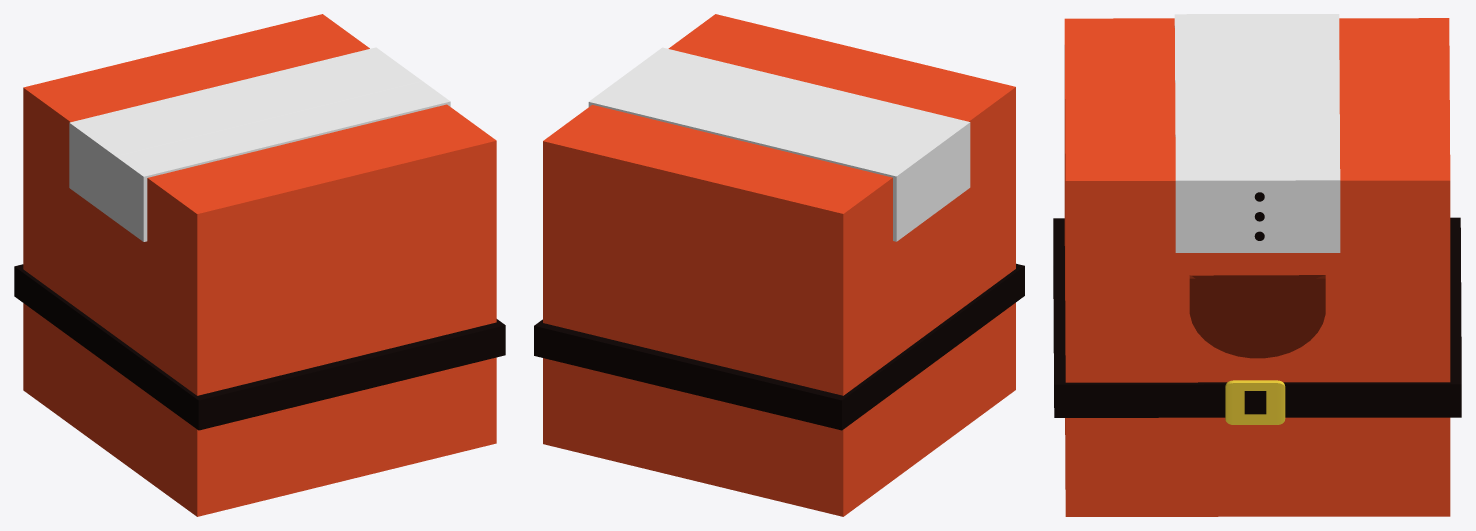
Rendered from body_3.fbx.
3 renders of one model, left to right at view 1: azimuth 30°, elevation 25°; view 2: azimuth 150°, elevation 25°; view 3: azimuth 270°, elevation 25°, orthographic. The views are drawn at different scales.
Parts seen in each view (by area): view 1: Cube.025, Cube.024, Cube.023; view 2: Cube.025, Cube.024, Cube.023; view 3: Cube.025, Cube.024, Cube.023, Cylinder.011, Cube.022.
Part boxes in pixels (left/top/right/bottom): Cube.025: left=23, top=14, right=496, bottom=516; Cube.024: left=69, top=47, right=450, bottom=241; Cube.023: left=14, top=264, right=505, bottom=430; Cube.025: left=543, top=14, right=1015, bottom=516; Cube.024: left=588, top=47, right=970, bottom=241; Cube.023: left=534, top=263, right=1024, bottom=430; Cube.025: left=1064, top=18, right=1450, bottom=516; Cube.024: left=1174, top=14, right=1340, bottom=252; Cube.023: left=1053, top=217, right=1461, bottom=417; Cylinder.011: left=1189, top=275, right=1325, bottom=358; Cube.022: left=1225, top=380, right=1285, bottom=424.
Bounding box in the file's own units: 316 × 294 × 322.
